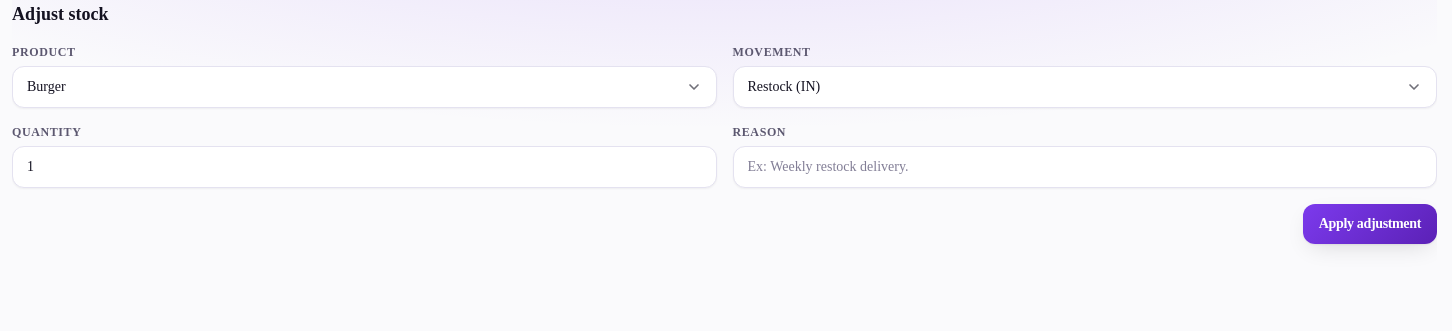
it: AdjustStockForm › posts an adjustment and shows a success message
This screenshot has width=1452, height=331.
Type "Weekly restock" into the field labelled "Reason". click: (1085, 167)
box: top-left (732, 146), bottom-right (1437, 188)
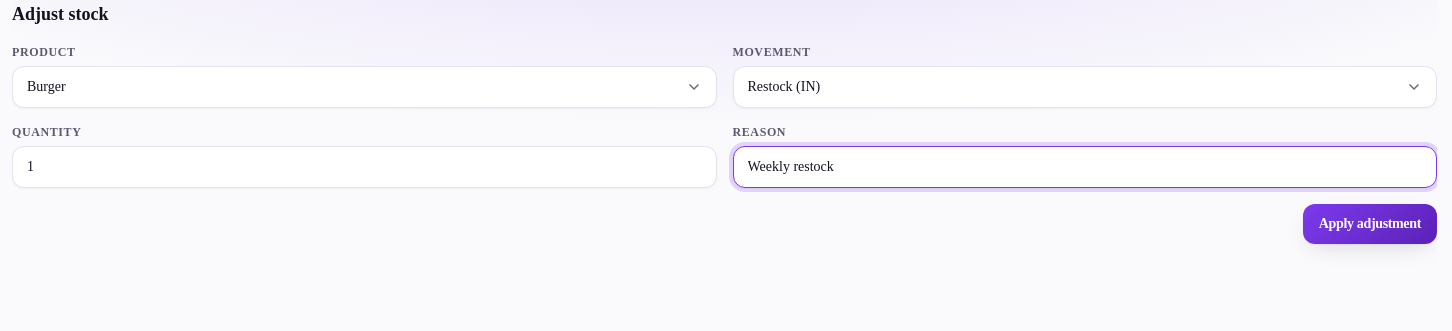
Click the button "Apply adjustment". click: (1370, 224)
box: top-left (1303, 204), bottom-right (1437, 244)
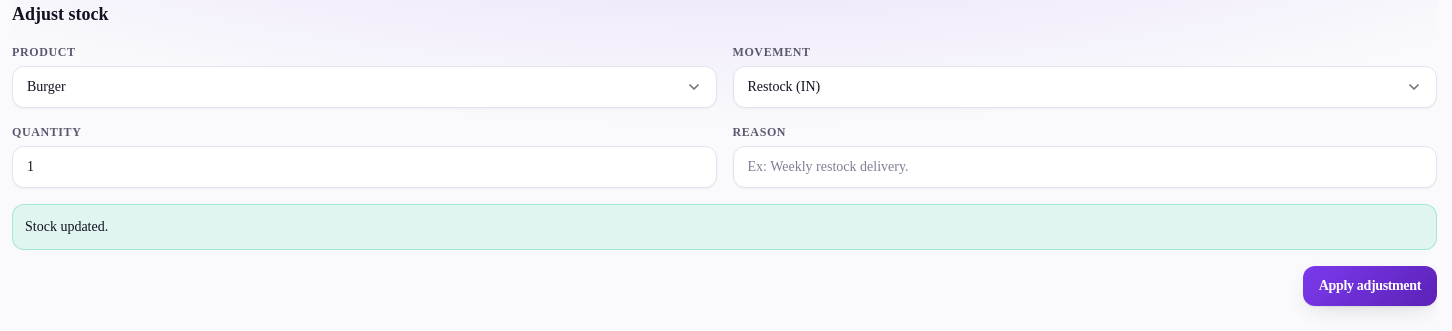
Result: the message shows "Stock updated" at top-left (25, 219), bottom-right (108, 234)
